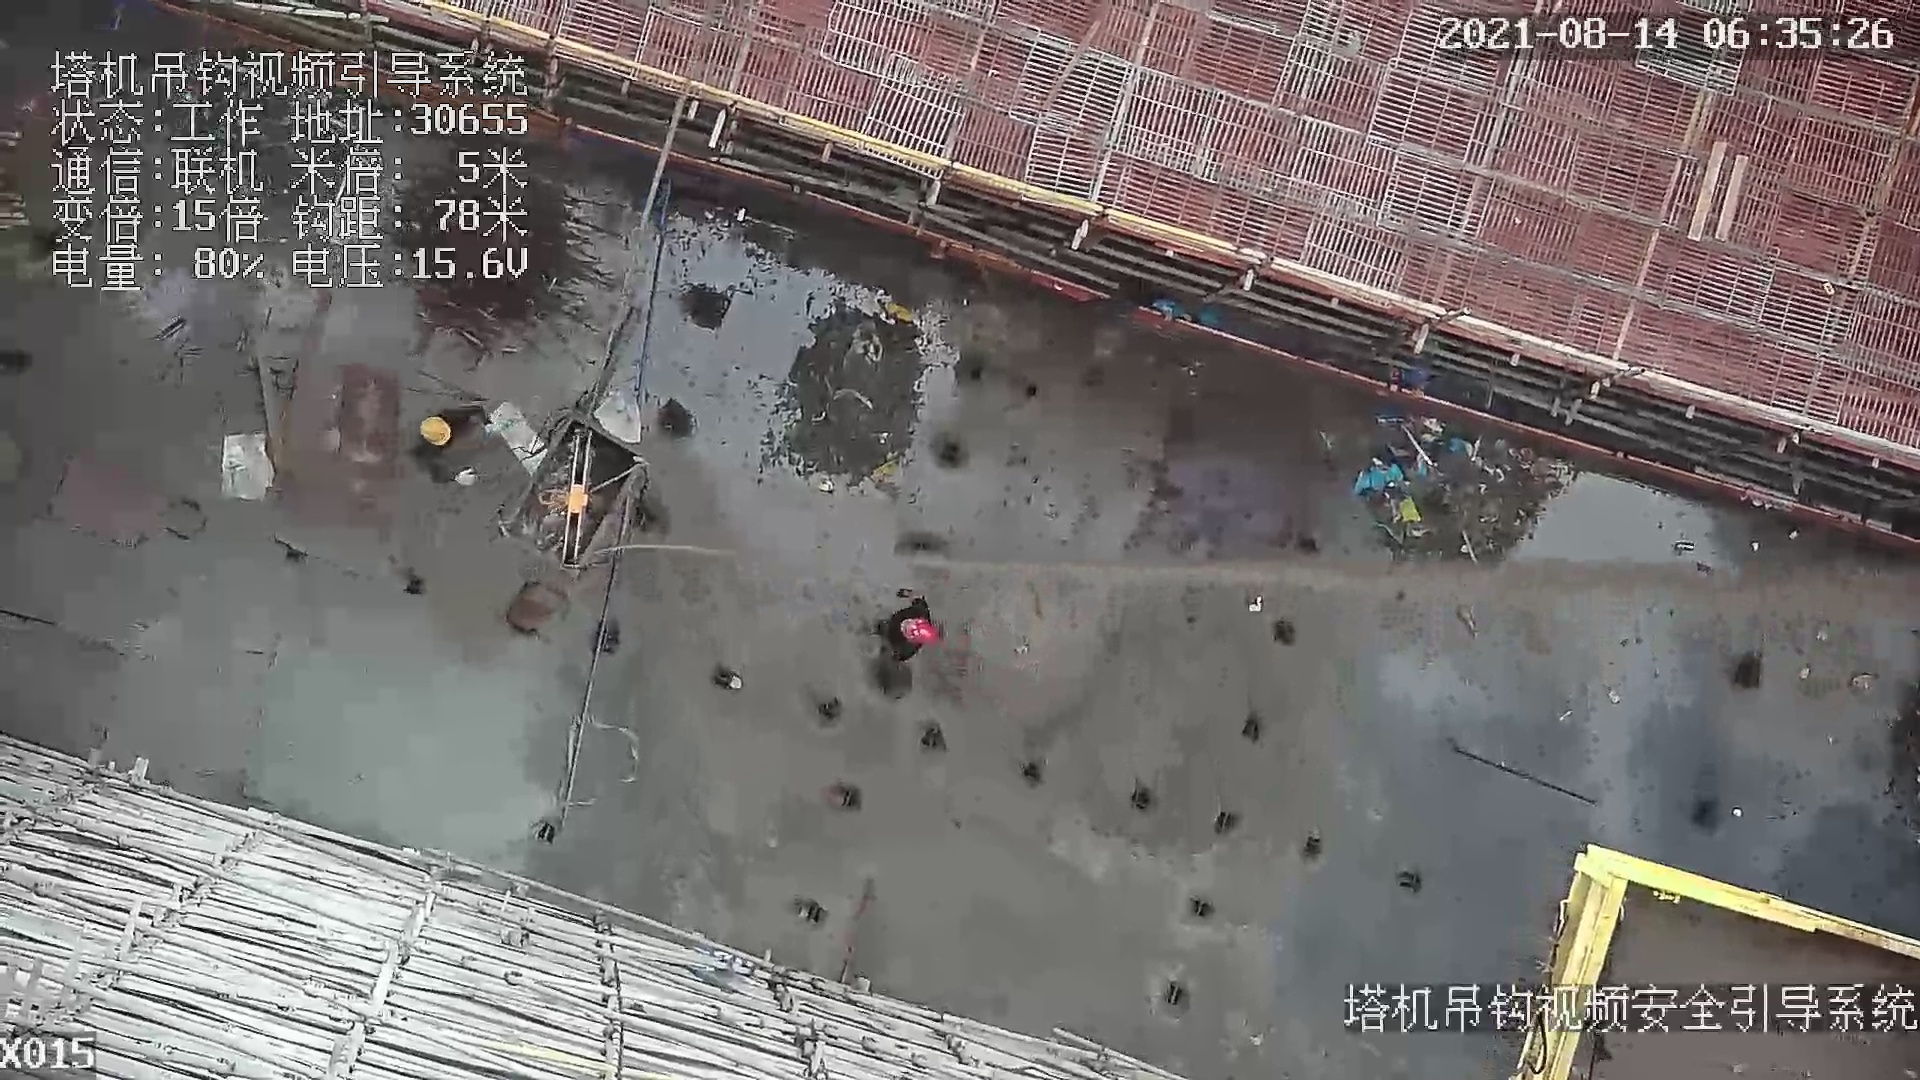helmet: (415, 408, 458, 450), (897, 614, 938, 658)
hook: (536, 431, 600, 564)
hopper: (503, 419, 656, 595)
person: (409, 395, 497, 492), (860, 592, 940, 665)
